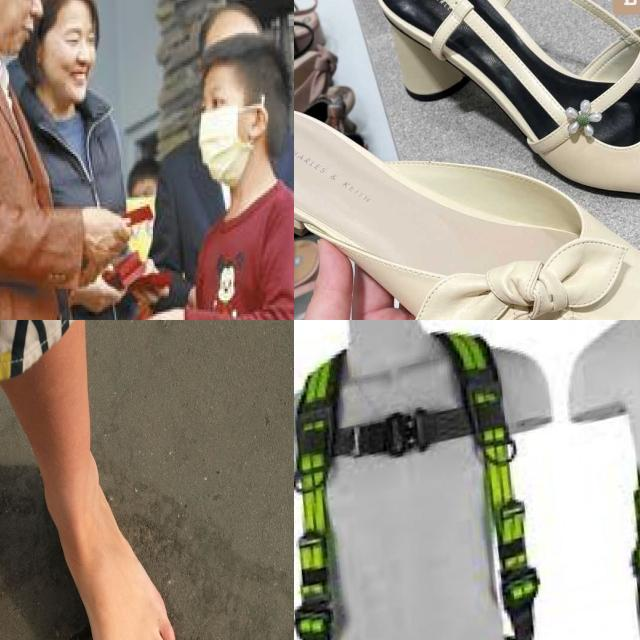Barefoots: (44, 461, 175, 640)
Harness: (294, 334, 539, 640)
No_Ear-Protection: (250, 100, 268, 144)
Sandals: (294, 85, 640, 320), (327, 0, 640, 214)
face_mask: (196, 81, 252, 186)
face_nomask: (44, 19, 97, 102), (0, 0, 46, 55)
hand_noglove: (76, 198, 132, 262), (86, 264, 130, 316), (142, 309, 187, 320)
head_nohelmet: (184, 1, 264, 40), (198, 51, 287, 86), (47, 0, 101, 16)
person: (29, 0, 143, 320), (166, 42, 294, 320)
